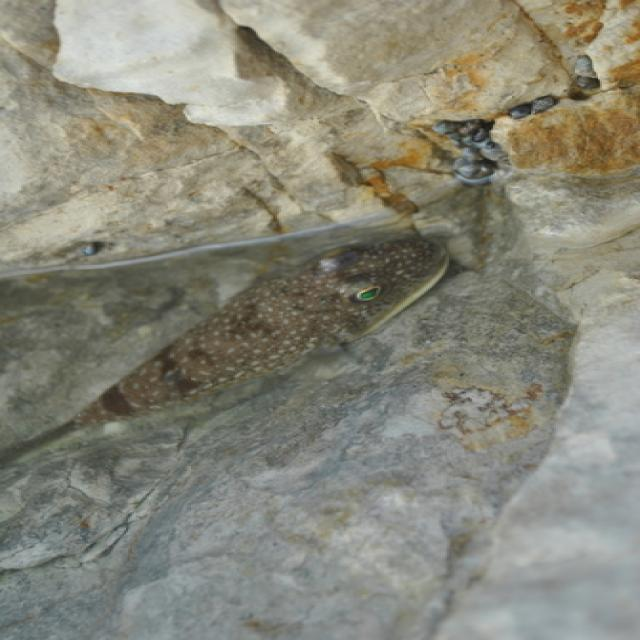Balik: (0, 239, 447, 463)
